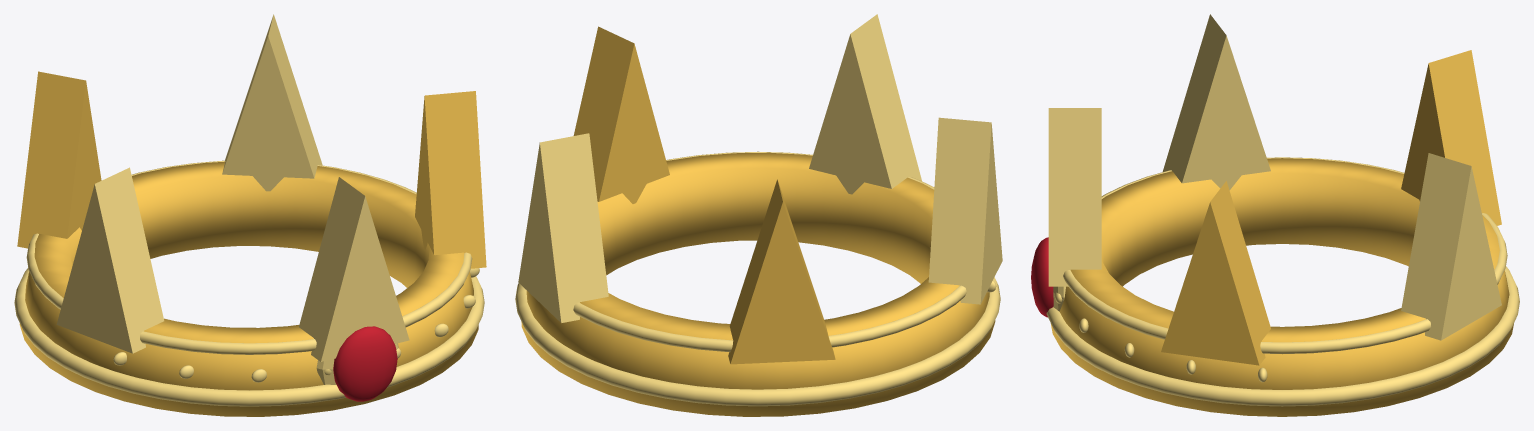
The model's file is Golden_Crown_Vox.glb.
3 views of the same model, side by side, from view 1: azimuth 30°, elevation 25°; view 2: azimuth 150°, elevation 25°; view 3: azimuth 270°, elevation 25° (orthographic). The views are drawn at different scales.
Visible parts, largest first — view 1: Crown Band, Crown Point 5, Crown Point 1, Crown Point 4, Crown Point 2, Crown Point 3, Lower Gold Engraved Rim, Upper Gold Rim, Founder Ruby; view 2: Crown Band, Crown Point 3, Crown Point 1, Crown Point 5, Crown Point 4, Crown Point 2, Lower Gold Engraved Rim, Upper Gold Rim; view 3: Crown Band, Crown Point 3, Crown Point 2, Crown Point 5, Crown Point 1, Lower Gold Engraved Rim, Crown Point 4, Upper Gold Rim, Founder Ruby.
Part boxes in pixels (x1=…): Crown Band: x1=19, y1=161, x2=478, y2=416; Crown Point 5: x1=56, y1=167, x2=164, y2=353; Crown Point 1: x1=299, y1=177, x2=409, y2=361; Crown Point 4: x1=17, y1=71, x2=101, y2=248; Crown Point 2: x1=415, y1=91, x2=486, y2=268; Crown Point 3: x1=222, y1=14, x2=322, y2=191; Lower Gold Engraved Rim: x1=14, y1=268, x2=484, y2=406; Upper Gold Rim: x1=26, y1=160, x2=472, y2=354; Founder Ruby: x1=333, y1=326, x2=397, y2=401; Crown Band: x1=521, y1=152, x2=995, y2=416; Crown Point 3: x1=518, y1=133, x2=608, y2=322; Crown Point 1: x1=809, y1=14, x2=921, y2=194; Crown Point 5: x1=928, y1=117, x2=1002, y2=304; Crown Point 4: x1=728, y1=179, x2=835, y2=364; Crown Point 2: x1=573, y1=26, x2=669, y2=203; Lower Gold Engraved Rim: x1=515, y1=277, x2=1000, y2=406; Upper Gold Rim: x1=573, y1=151, x2=966, y2=351; Crown Band: x1=1050, y1=158, x2=1513, y2=416; Crown Point 3: x1=1401, y1=153, x2=1501, y2=340; Crown Point 2: x1=1161, y1=181, x2=1270, y2=365; Crown Point 5: x1=1162, y1=14, x2=1270, y2=190; Crown Point 1: x1=1048, y1=108, x2=1101, y2=286; Lower Gold Engraved Rim: x1=1046, y1=266, x2=1519, y2=406; Crown Point 4: x1=1401, y1=50, x2=1501, y2=225; Upper Gold Rim: x1=1063, y1=157, x2=1507, y2=354; Founder Ruby: x1=1031, y1=237, x2=1053, y2=317.
Size of what is drawn, in the model's own units: 1.89 by 0.93 by 1.93.
